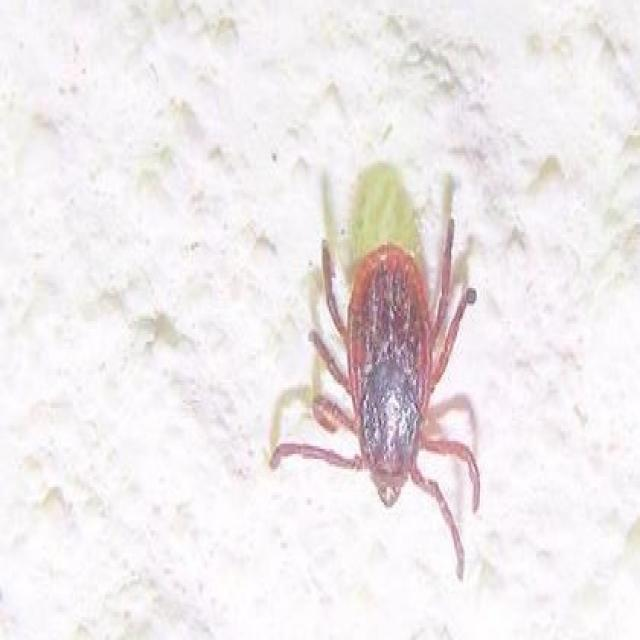Rhipicephalus Sanguineus-F: (268, 217, 482, 581)
